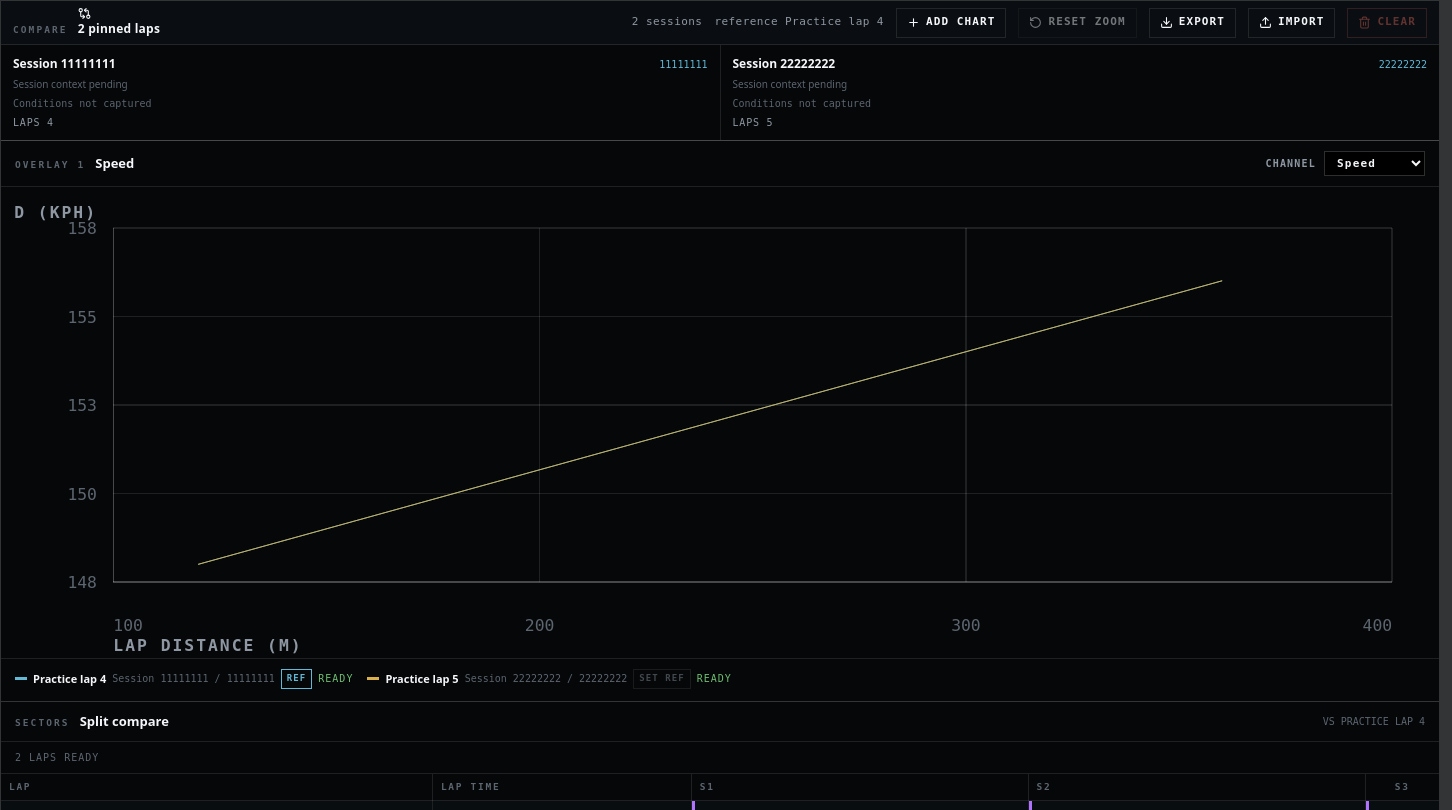
Scenario: CompareWorkspace › exports pinned laps as a JSON comparison set
Click the button "Export". click: (1192, 22)
box: 1149,8 -> 1236,38
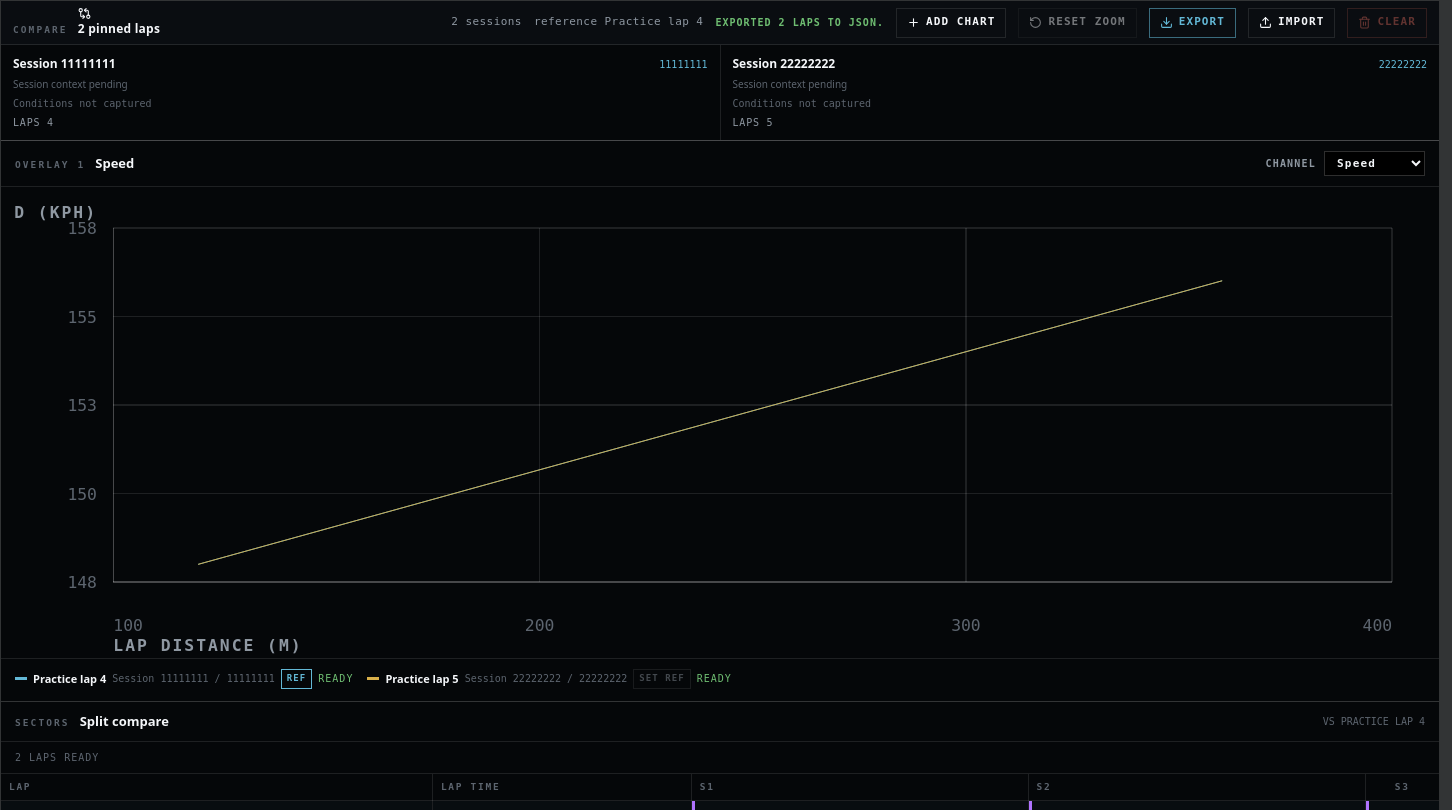
Check: the text "Exported 2 laps to JSON." is shown, box 715,15 -> 884,30
